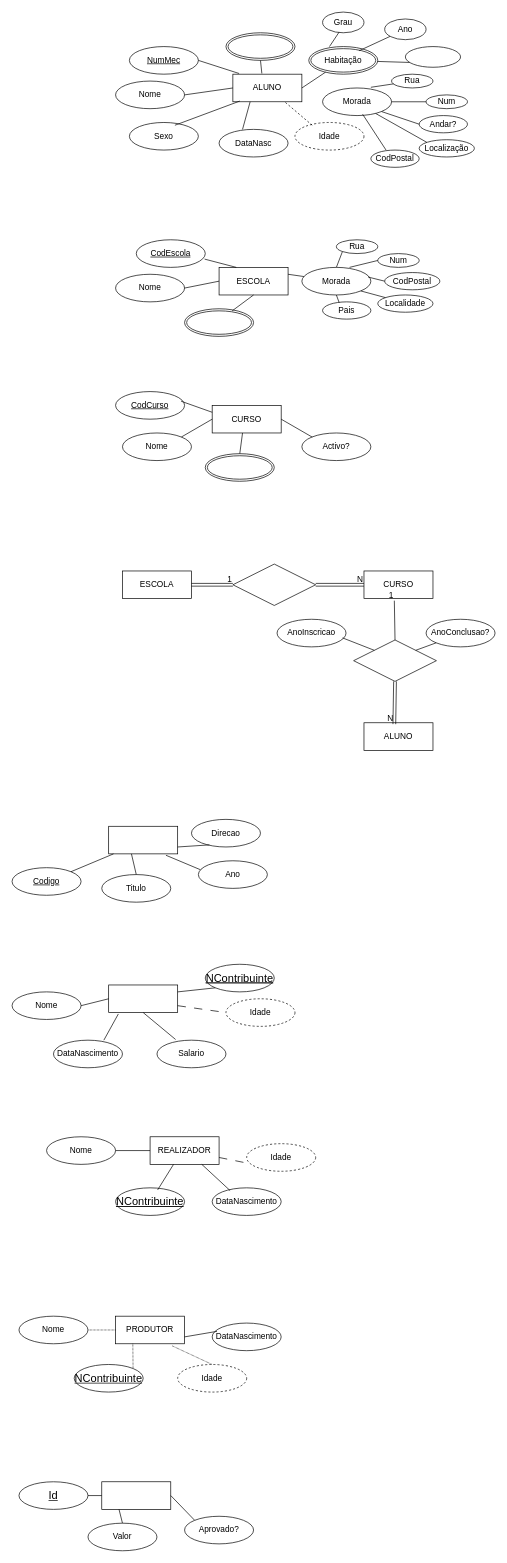
Image size: 507x1563. Some labels were removed from this diagram. Here are the shapes that lost their labels. From the top down, the centre of each, then its label:
At point 260,46: "NumTelef".
At point 433,56: "Instituição".
At point 219,322: "Telefone".
At point 239,467: "Disciplina".
At point 274,584: "LECCIONA".
At point 394,660: "INSCRITO_EM".
At point 143,840: "FILME".
At point 143,998: "ATOR".
At point 136,1495: "ORCAMENTO".
